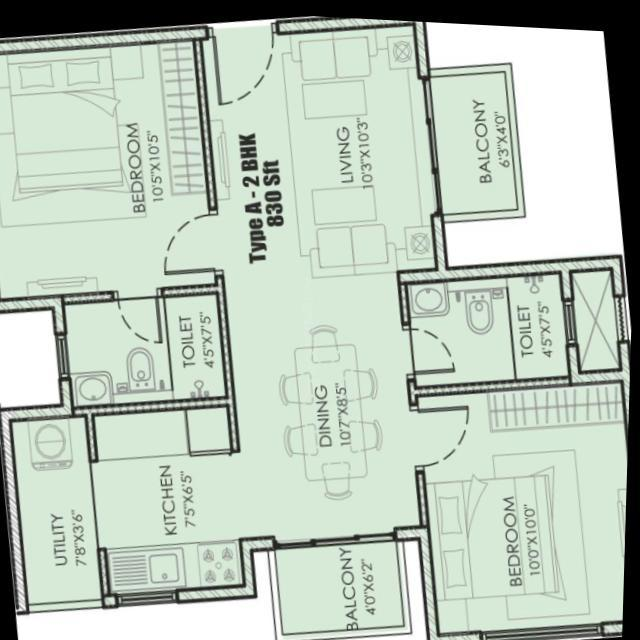Balcony-Sitout: (426, 52, 525, 217), (270, 534, 417, 639)
Bedroom: (408, 364, 632, 640)
Bedroom with Toilet: (0, 27, 231, 410)
Dining: (272, 314, 391, 499)
Kitchen: (89, 386, 262, 608)
Living: (200, 12, 452, 280)
Toilet: (52, 278, 234, 418), (395, 250, 571, 394)
Utility: (4, 402, 106, 610)
